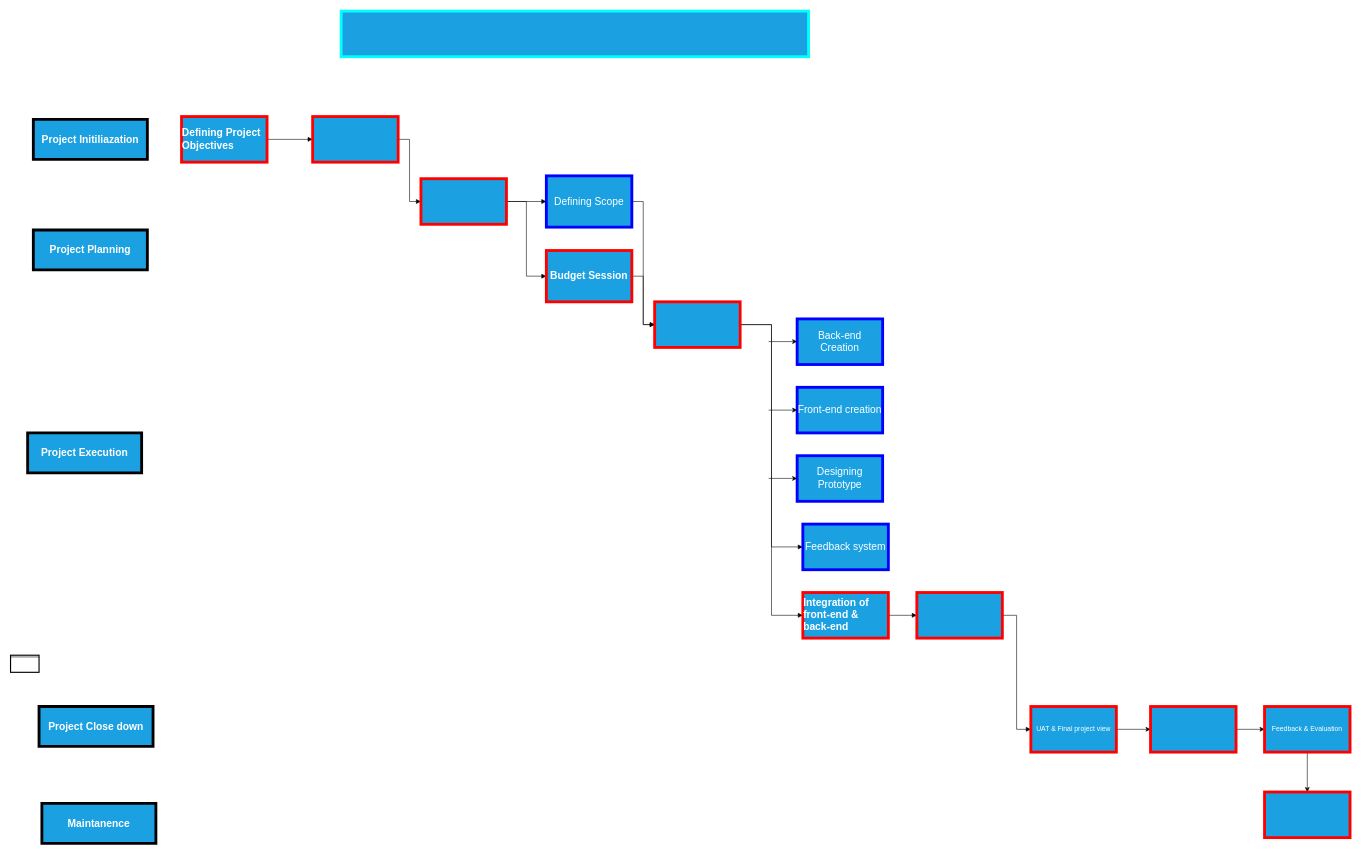
This 1361x854 diagram has some shape labels left out. Here are the shapes that lost their labels. From the top down, the centre of each, then its label:
At [574,33]: "Mobile Application Passport Automation Syste m".
At [355,139]: "Project Charter".
At [463,201]: "Meetings".
At [697,324]: "Application Development".
At [959,615]: "User Training".
At [1193,729]: "Final Sign off".
At [1307,814]: "Software Maintanence".
